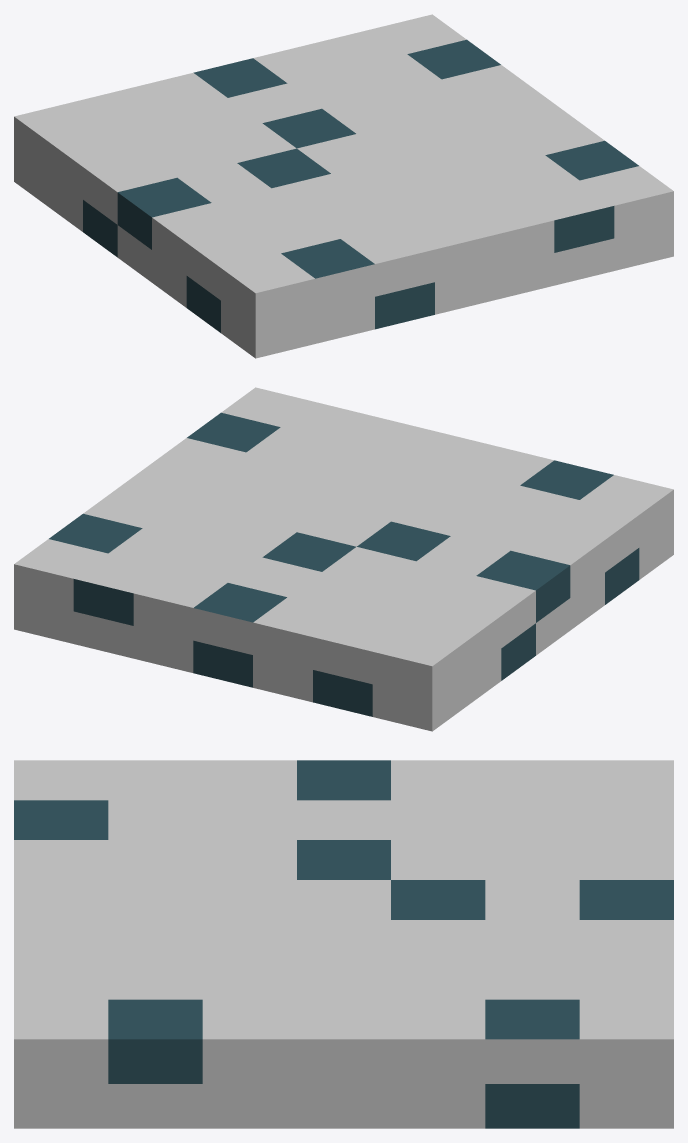
Rendered from AzulejoGrande.fbx.
3 renders of one model, top to bottom at view 1: azimuth 30°, elevation 25°; view 2: azimuth 150°, elevation 25°; view 3: azimuth 270°, elevation 25°, orthographic. The views are drawn at different scales.
Visible parts, largest first — view 1: AzulejoGrande; view 2: AzulejoGrande; view 3: AzulejoGrande.
Part boxes in pixels (bbox=[...]): AzulejoGrande: bbox=[14, 14, 673, 358]; AzulejoGrande: bbox=[14, 387, 673, 731]; AzulejoGrande: bbox=[14, 760, 673, 1128].
Size of the model in its own units: 299 by 44.59 by 299.
